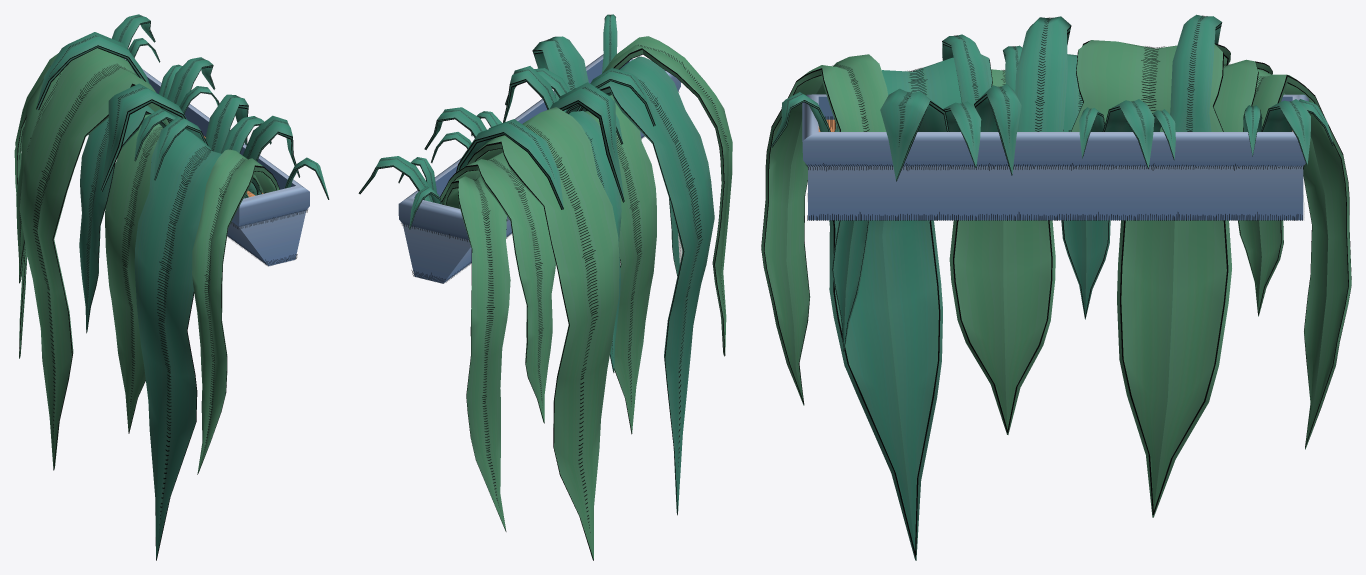
File: flower-pot-narrow-01.glb
3 renders of one model, left to right at view 1: azimuth 30°, elevation 25°; view 2: azimuth 150°, elevation 25°; view 3: azimuth 270°, elevation 25°, orthographic. The views are drawn at different scales.
Parts seen in each view (by area): view 1: FlowerPot_Narrow_01; view 2: FlowerPot_Narrow_01; view 3: FlowerPot_Narrow_01.
Boxes of the visible parts, x1=… form: FlowerPot_Narrow_01: x1=14, y1=14, x2=329, y2=560; FlowerPot_Narrow_01: x1=358, y1=14, x2=732, y2=560; FlowerPot_Narrow_01: x1=761, y1=14, x2=1351, y2=560.
Size of the model in its own units: 1.81 by 4.32 by 4.05.
3 materials, 3 textured.
